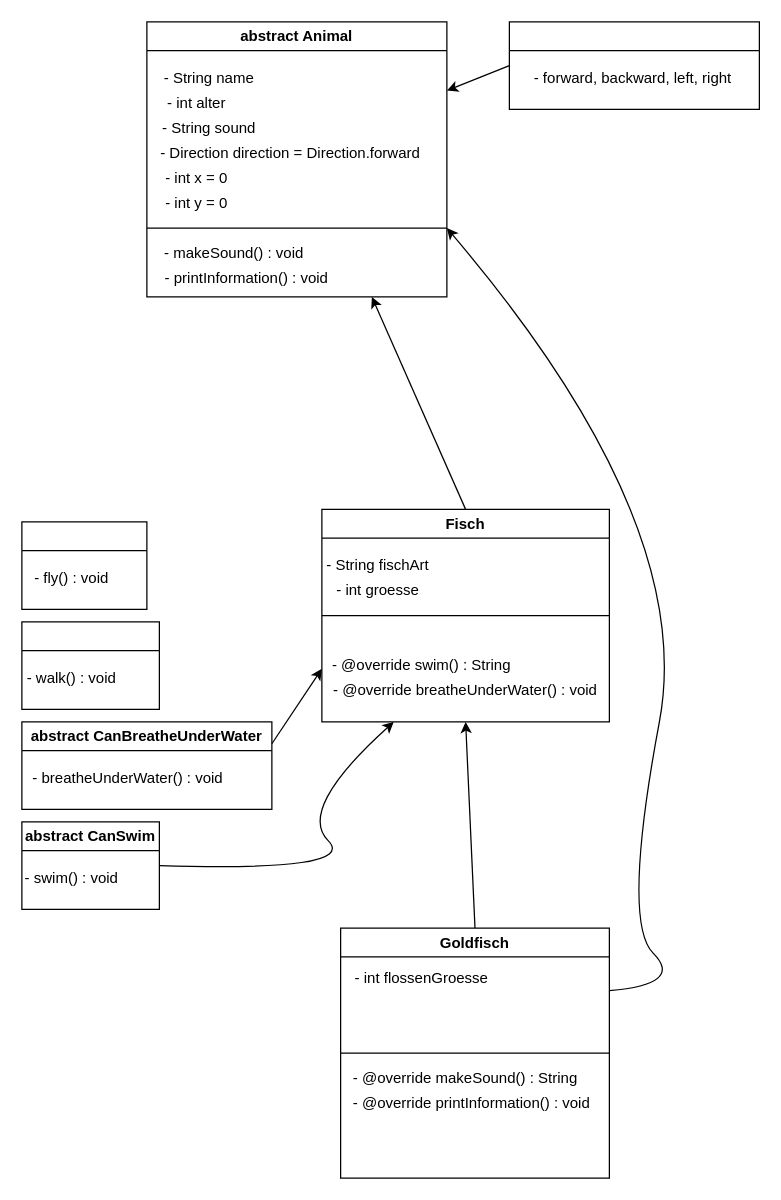
The diagram is 781 pixels wide and 1200 high, and some of its shapes have lost their labels. The shapes that lost their labels are listed below. From the top down, each one's box as (x1, y1, x2, y2) in pixels, then its label:
(508, 21, 759, 109): enum Direction
(21, 521, 147, 609): abstract CanFly
(21, 621, 159, 709): abstract CanWalk
